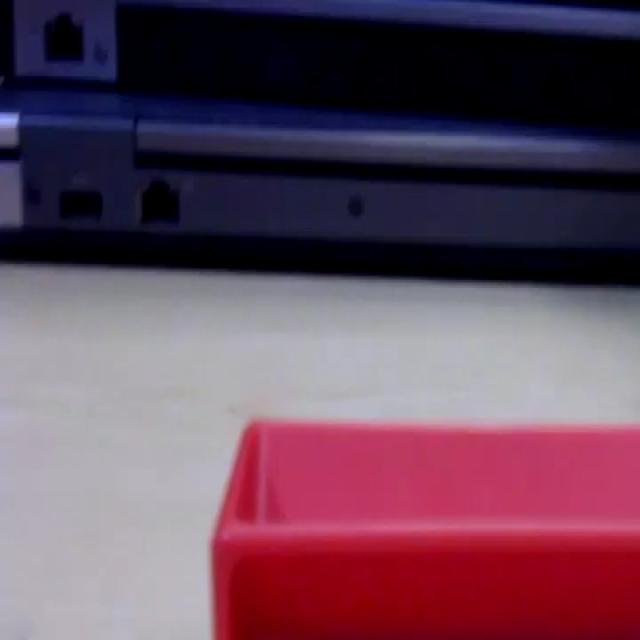red_block: (208, 415, 638, 637)
